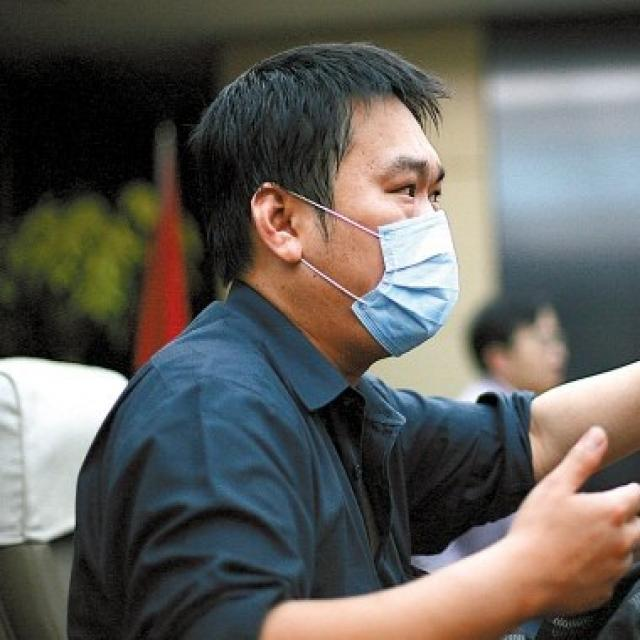mask: (308, 95, 450, 346)
nomask: (506, 312, 562, 388)
